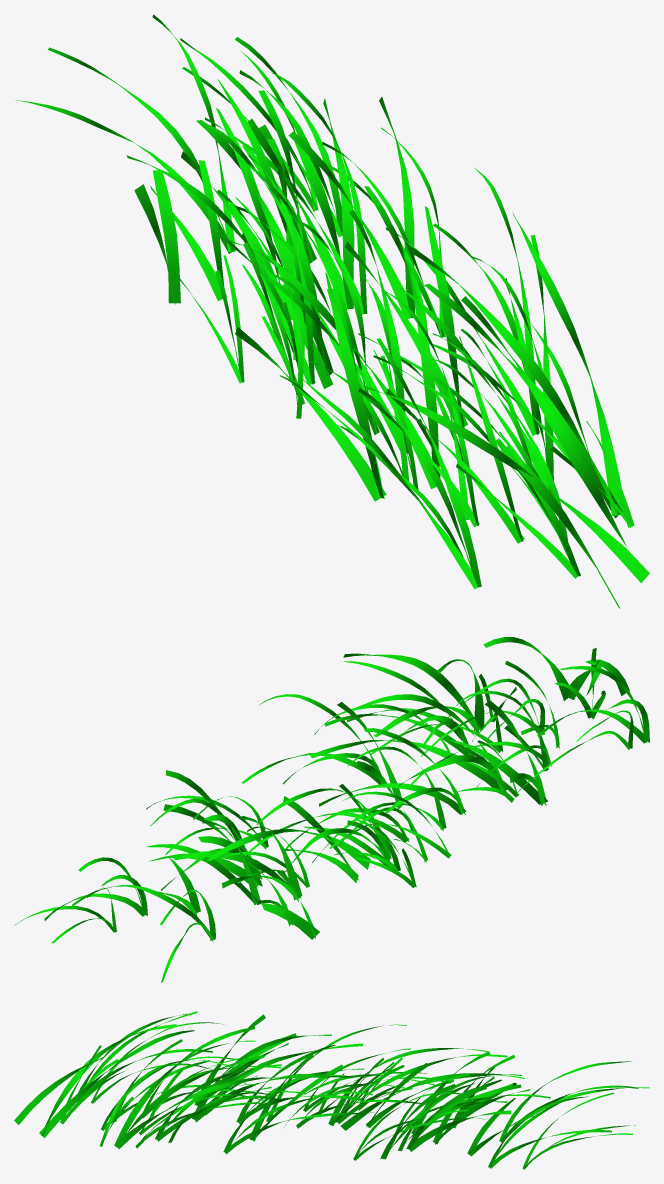
The model's file is grass.fbx.
The picture shows the model from 3 angles, top to bottom: view 1: azimuth 30°, elevation 25°; view 2: azimuth 150°, elevation 25°; view 3: azimuth 270°, elevation 25°; orthographic projection. The views are drawn at different scales.
Parts seen in each view (by area): view 1: grassWindNarrow1Main; view 2: grassWindNarrow1Main; view 3: grassWindNarrow1Main.
Boxes of the visible parts, <box> form: grassWindNarrow1Main: <box>15,14,649,608</box>; grassWindNarrow1Main: <box>14,637,649,982</box>; grassWindNarrow1Main: <box>14,1011,649,1169</box>.
Size of the model in its own units: 1.43 by 0.7603 by 4.23.
